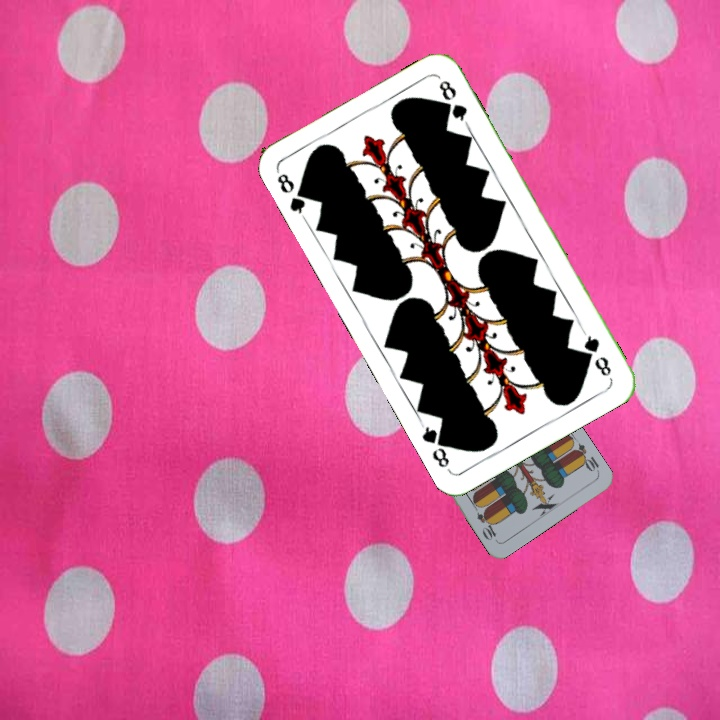E10: (569, 440, 602, 476)
G8: (272, 168, 313, 222), (579, 327, 614, 379)
